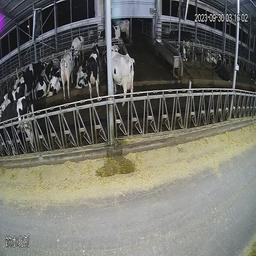cow: (0, 94, 29, 172), (102, 50, 135, 106), (17, 56, 43, 102), (59, 49, 75, 102), (88, 43, 102, 103), (36, 60, 54, 102), (67, 33, 85, 66), (167, 27, 194, 48), (75, 58, 90, 92), (99, 25, 122, 47), (213, 59, 232, 83), (116, 17, 131, 40), (204, 45, 219, 63), (179, 46, 190, 62)
